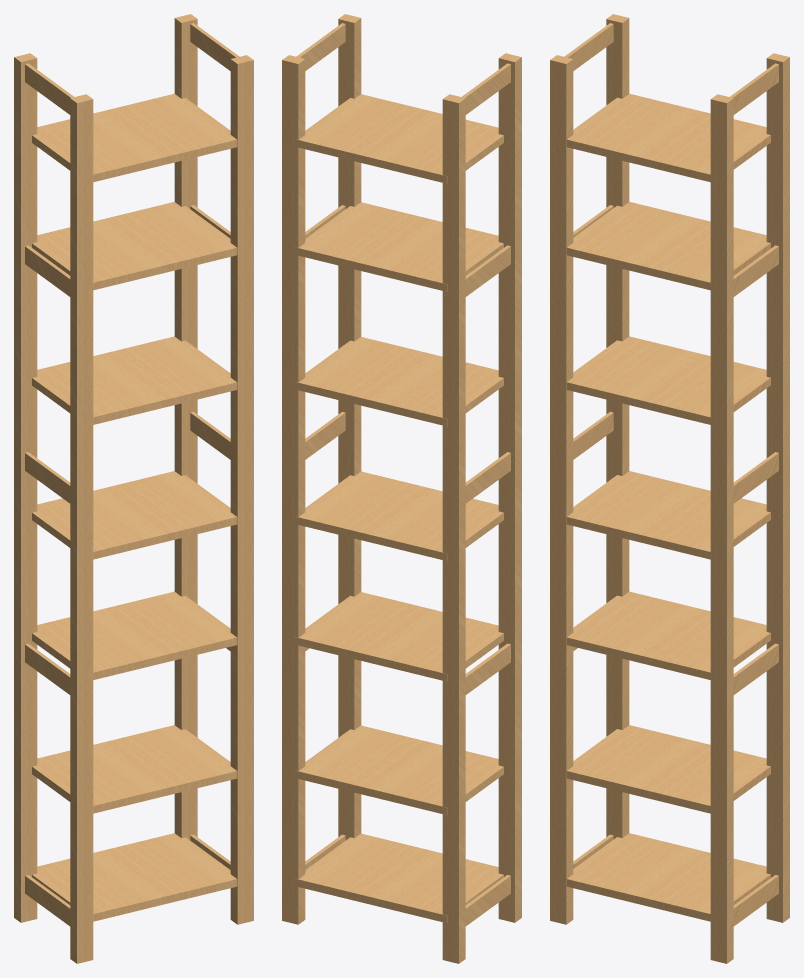
Rendered from sweethome3d-contributions-pinewood-rack-full-height-half-width-192.glb.
3 renders of one model, left to right at view 1: azimuth 30°, elevation 25°; view 2: azimuth 150°, elevation 25°; view 3: azimuth 330°, elevation 25°, orthographic.
Parts seen in each view (by area): view 1: rack; view 2: rack; view 3: rack.
Part boxes in pixels (left/top/right/bottom): rack: left=14, top=14, right=253, bottom=963; rack: left=282, top=14, right=521, bottom=963; rack: left=550, top=14, right=789, bottom=963.
Size of the model in its own units: 48.8 by 227 by 30.17.
Materials: 1 (1 with a texture image).
